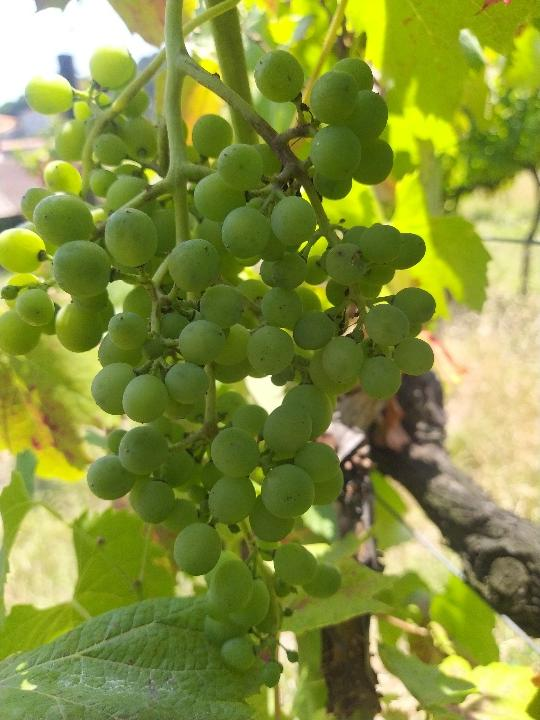grape: (3, 44, 437, 693)
